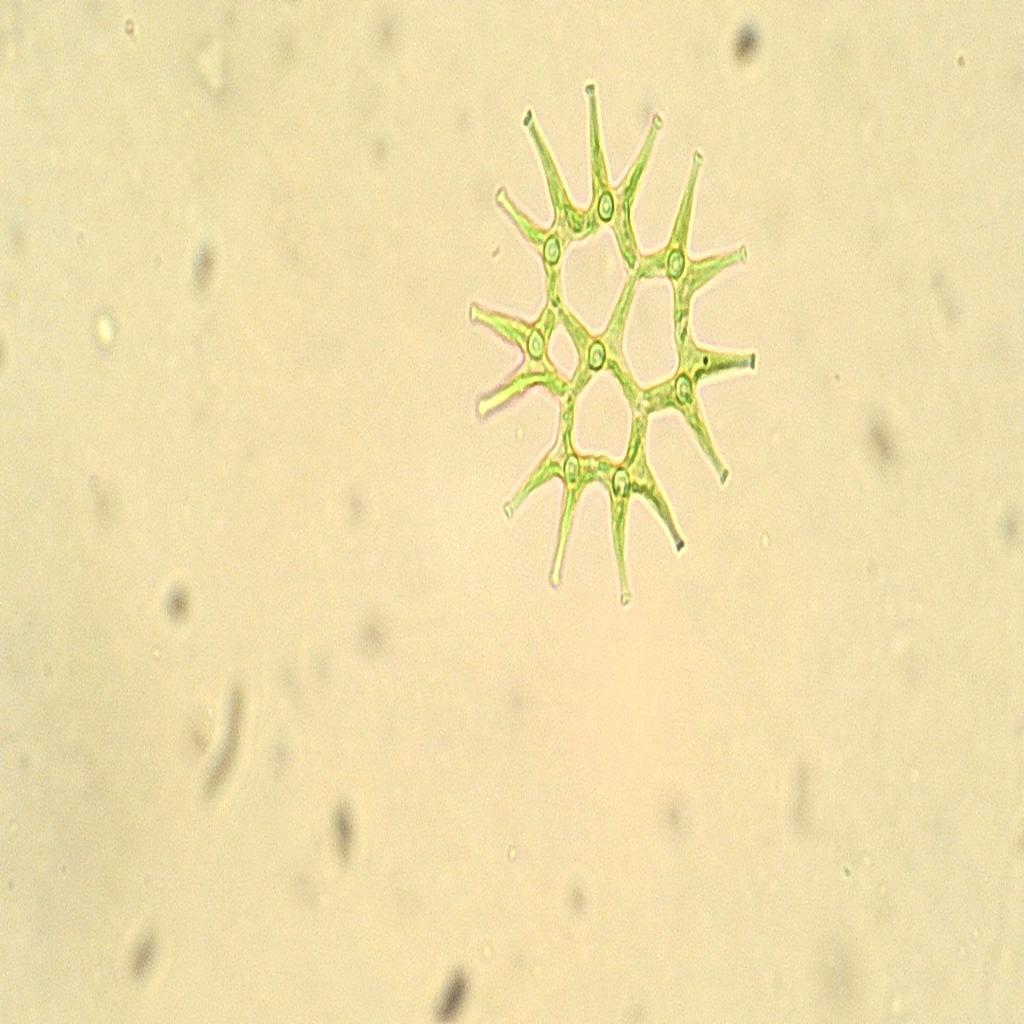Pediastrum_CTH: (459, 64, 767, 623)
